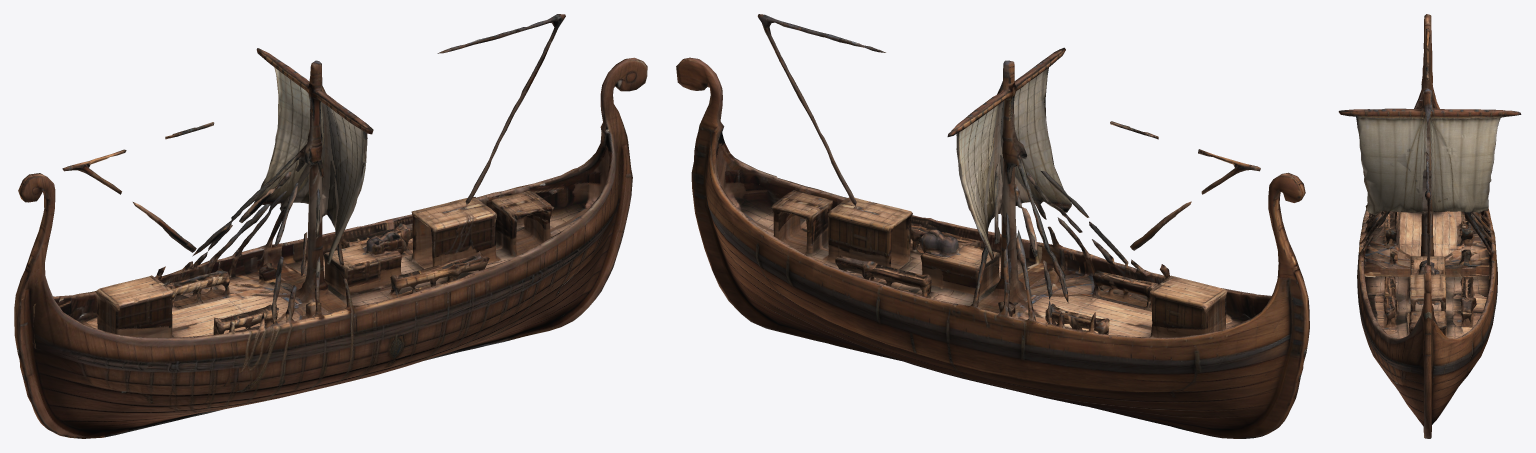
File: Transport.fbx
3 renders of one model, left to right at view 1: azimuth 30°, elevation 25°; view 2: azimuth 150°, elevation 25°; view 3: azimuth 270°, elevation 25°, orthographic. The views are drawn at different scales.
Parts seen in each view (by area): view 1: Mesh_0; view 2: Mesh_0; view 3: Mesh_0.
Boxes of the visible parts, bbox=[...] form: Mesh_0: bbox=[14, 14, 647, 438]; Mesh_0: bbox=[676, 14, 1309, 438]; Mesh_0: bbox=[1338, 14, 1521, 438].
Bounding box in the file's own units: 201 × 98.77 × 64.29.
1 material, 1 textured.
